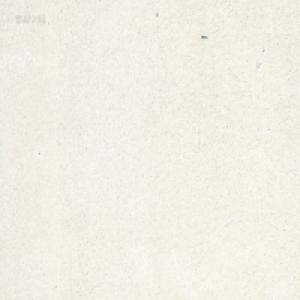Nail: (201, 33, 208, 39)
